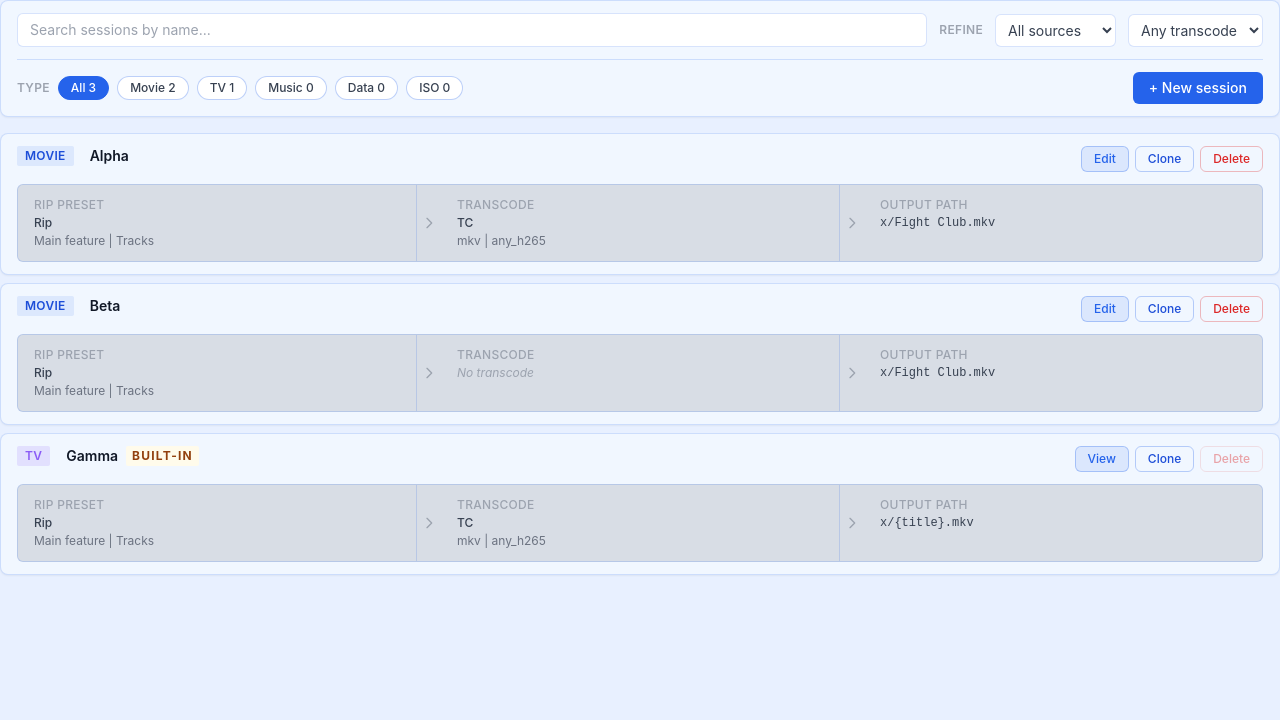
Test: media-type chip narrows
The image size is (1280, 720).
Click the button "TV 1" at (222, 88), box top-left (197, 76), bottom-right (247, 100)
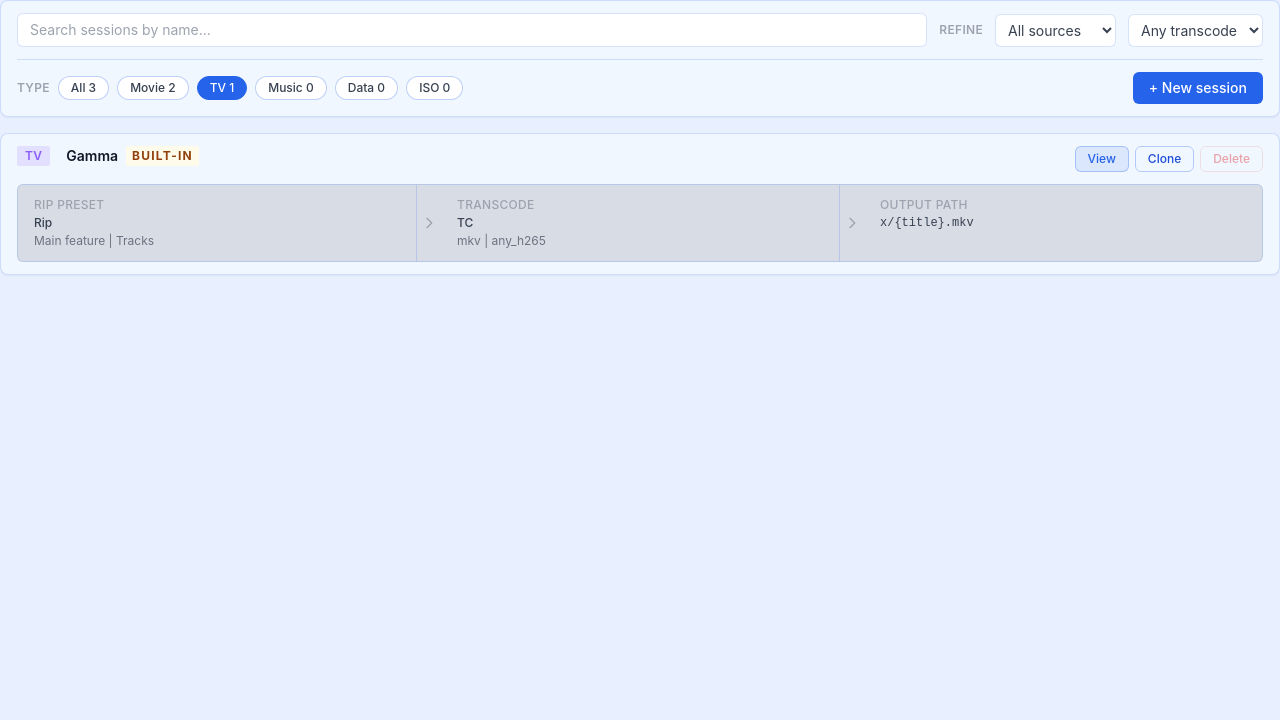
Expected: the text "Gamma" is shown, top-left (66, 146), bottom-right (118, 166)
Expected: the text "Alpha" is gone
